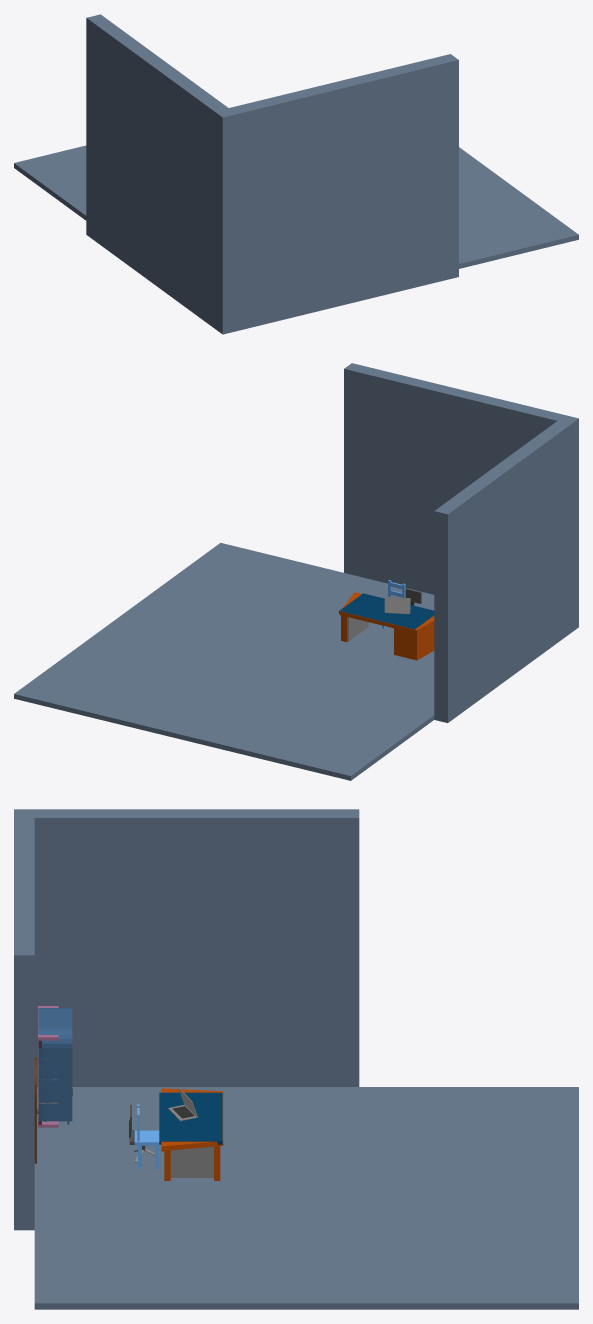
Rendered from Room.fbx.
3 renders of one model, top to bottom at view 1: azimuth 30°, elevation 25°; view 2: azimuth 150°, elevation 25°; view 3: azimuth 270°, elevation 25°, orthographic. The views are drawn at different scales.
Parts seen in each view (by area): view 1: Cube_2_5; view 2: Cube_2_5, stol_2, stol_1; view 3: Cube_2_5, stol_2, Cube_1_3, stol_1, stul_1.
Part boxes in pixels (box(x1,y1,x2,y2)): Cube_2_5: box(14, 14, 578, 334); Cube_2_5: box(14, 363, 578, 780); stol_2: box(339, 593, 434, 641); stol_1: box(339, 592, 434, 660); Cube_2_5: box(14, 809, 578, 1309); stol_2: box(159, 1092, 222, 1177); Cube_1_3: box(38, 1008, 72, 1121); stol_1: box(161, 1088, 223, 1180); stul_1: box(134, 1104, 159, 1169).
Bounding box in the file's own units: 772 × 439 × 818.
